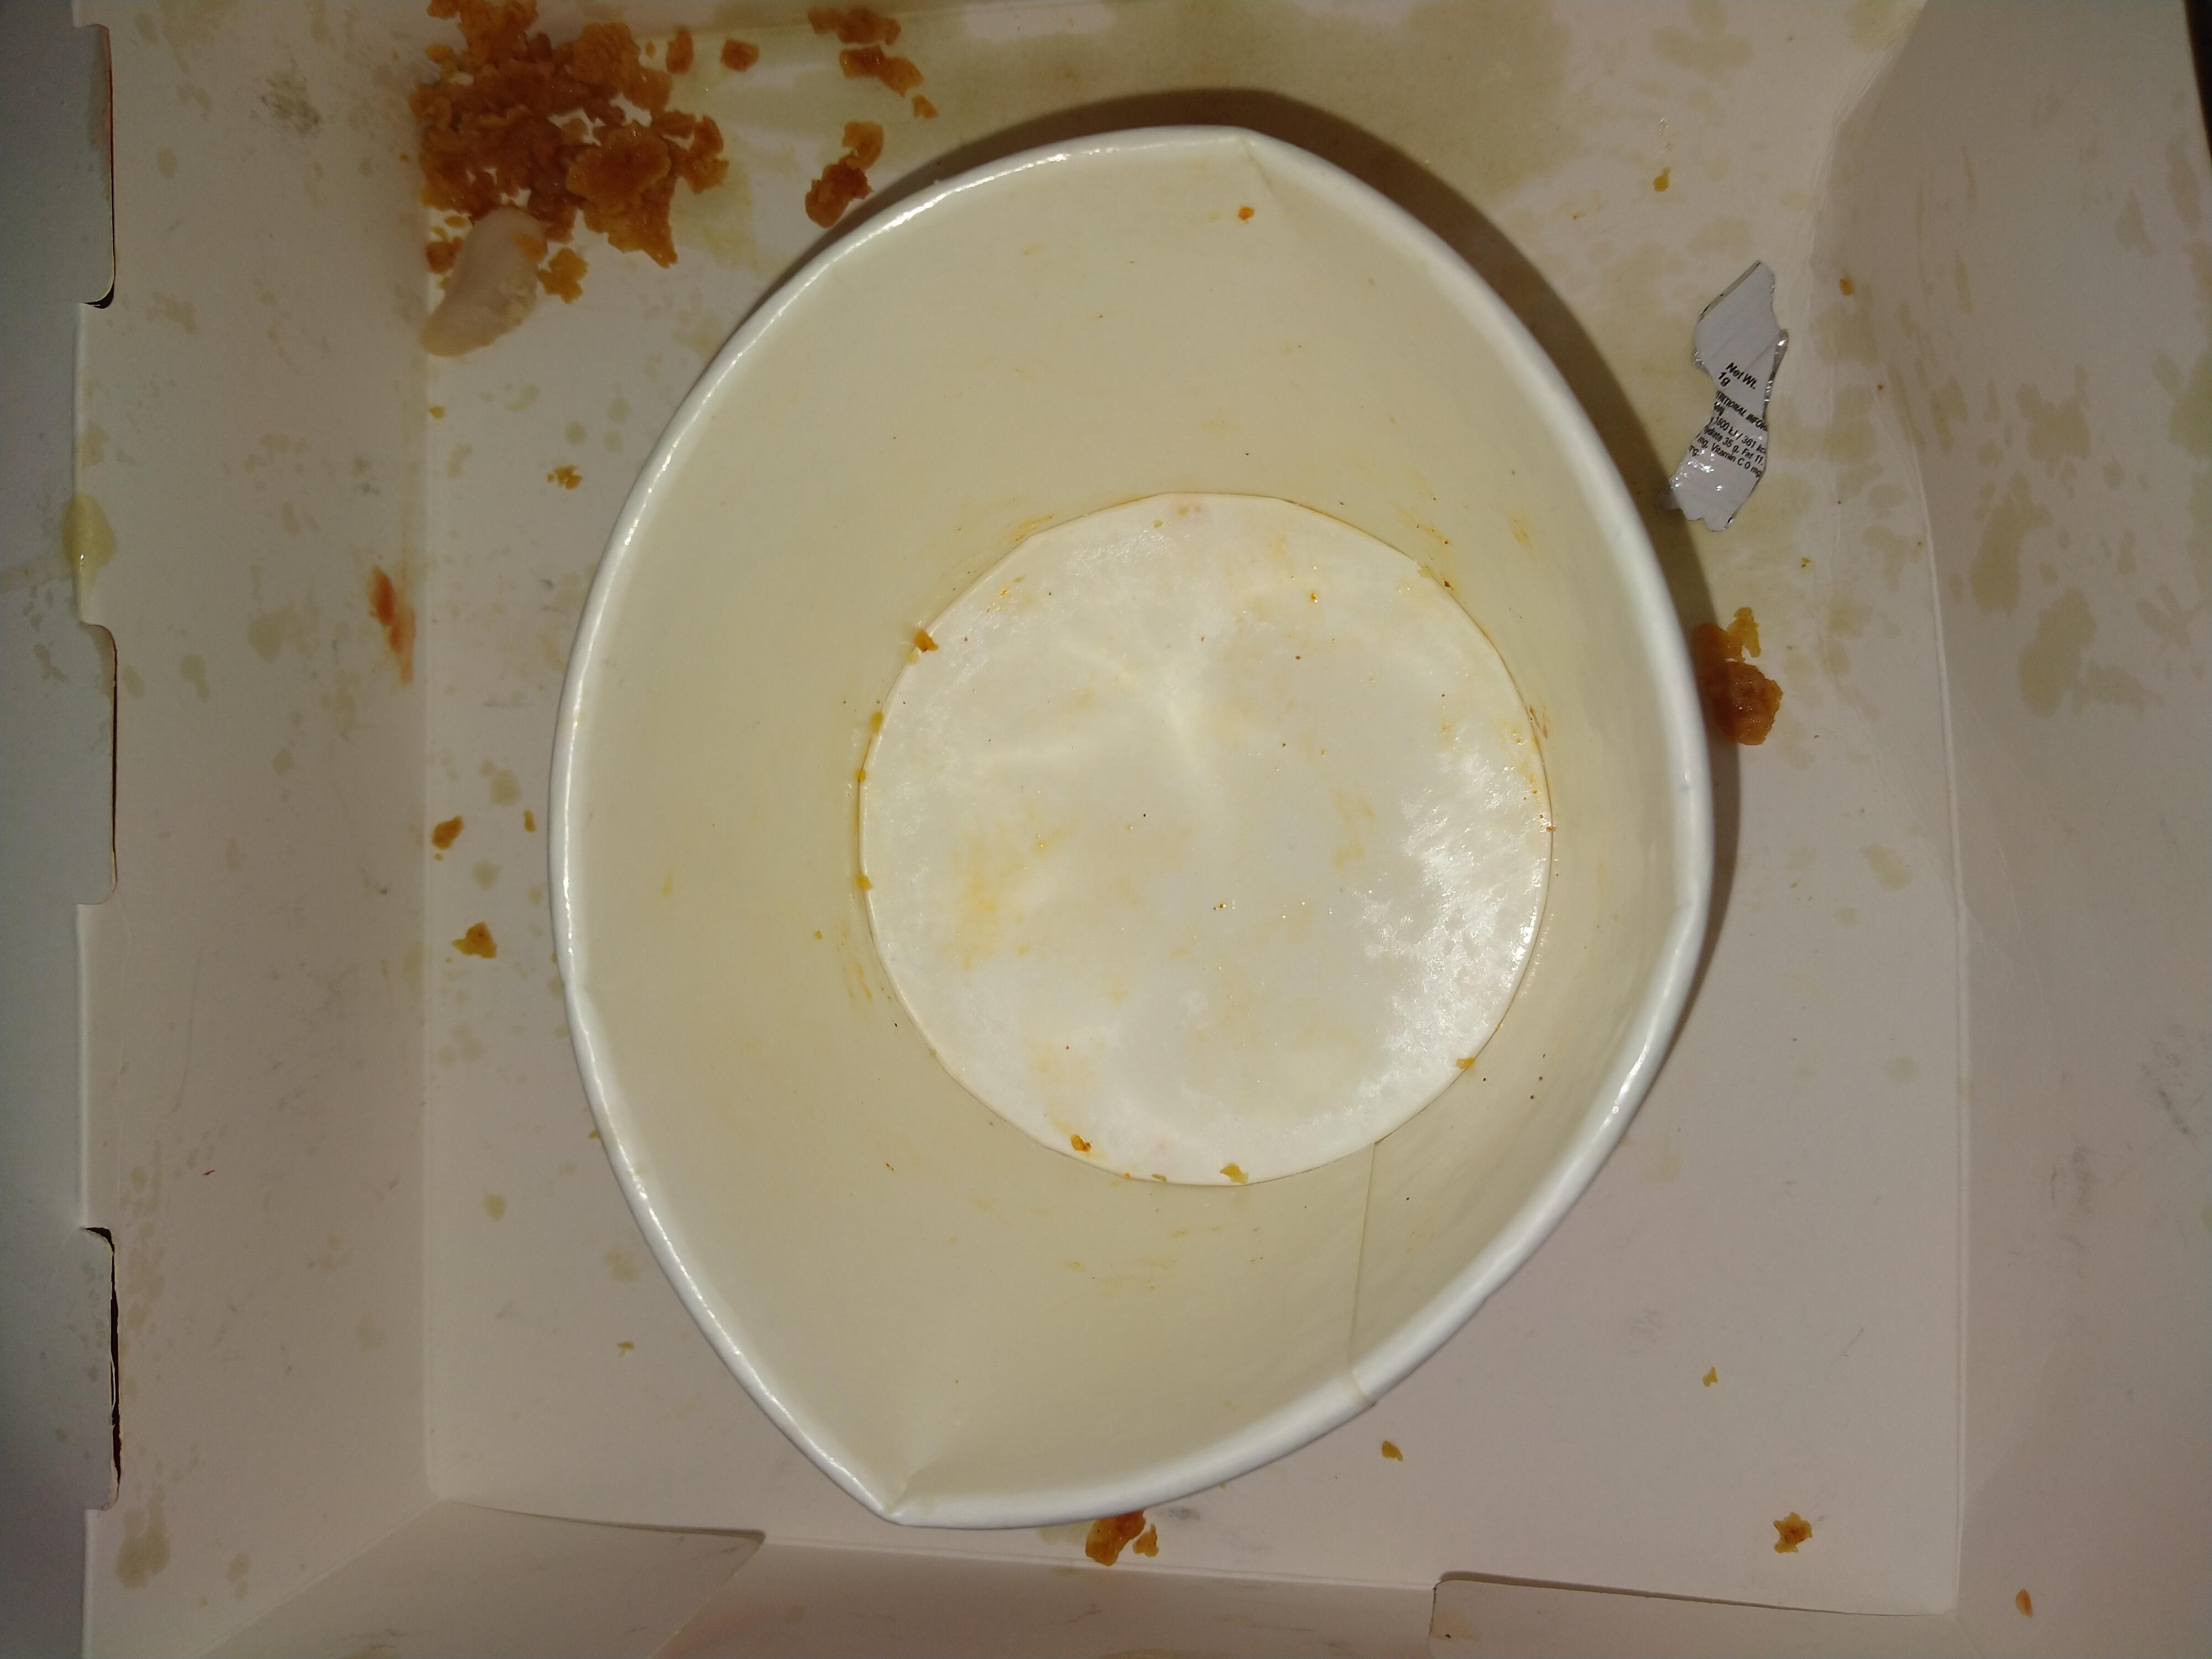paper: (526, 98, 1750, 1553)
